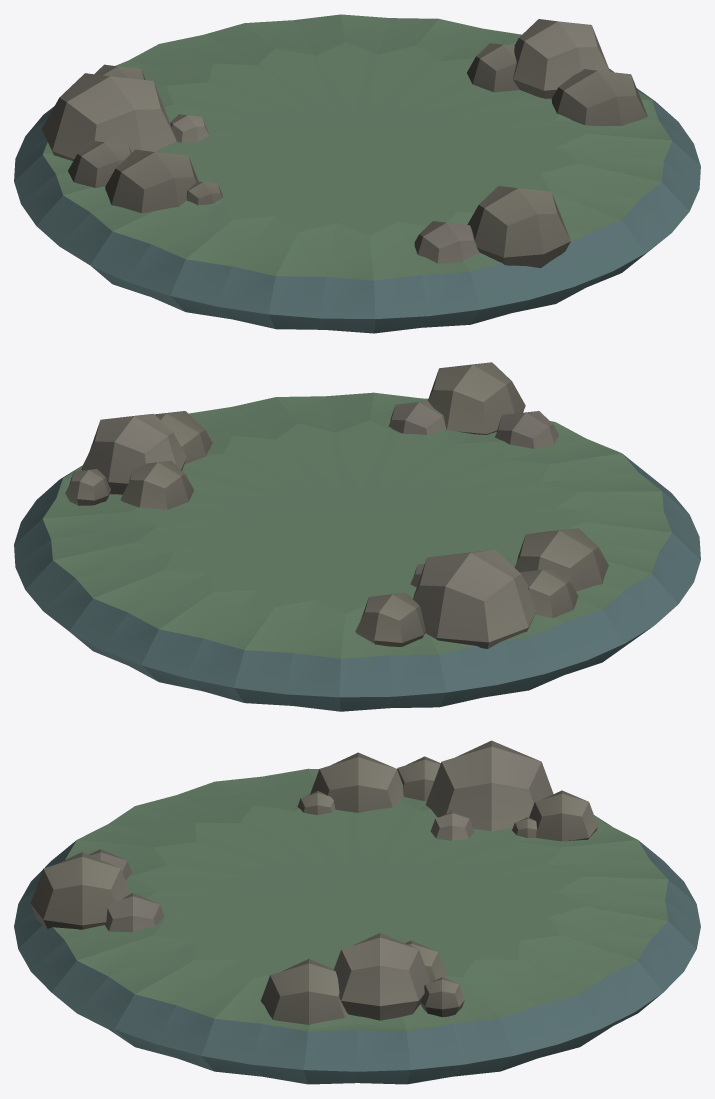
File: portale.fbx
The picture shows the model from 3 angles, top to bottom: view 1: azimuth 30°, elevation 25°; view 2: azimuth 150°, elevation 25°; view 3: azimuth 270°, elevation 25°; orthographic projection.
Visible parts, largest first — view 1: Portale spaziale; view 2: Portale spaziale; view 3: Portale spaziale.
Part boxes in pixels (x1,y1,x2,y2): Portale spaziale: [14, 14, 700, 333]; Portale spaziale: [14, 362, 700, 711]; Portale spaziale: [14, 740, 700, 1084].
Bounding box in the file's own units: 199 × 40.83 × 199.
